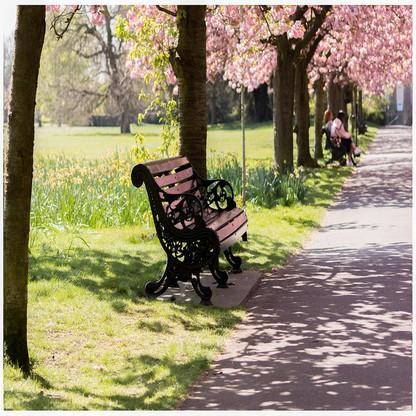obstacle: (127, 153, 258, 305)
